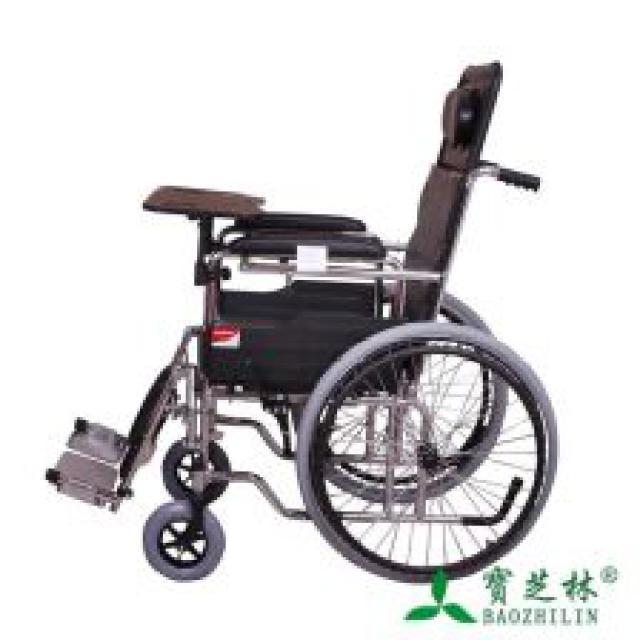wheelchair: (37, 51, 566, 594)
